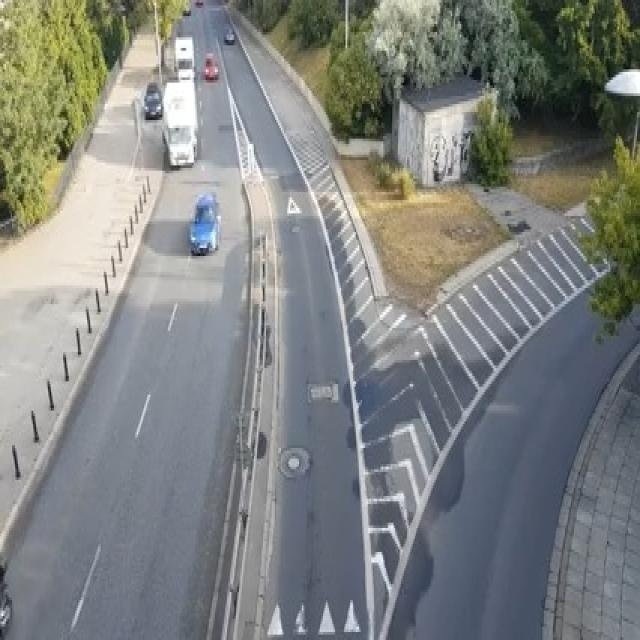bus: (161, 77, 197, 168), (173, 35, 194, 80)
car: (189, 190, 221, 253), (143, 80, 162, 117), (204, 53, 218, 80), (224, 24, 234, 43), (182, 0, 191, 13), (194, 0, 203, 5)
